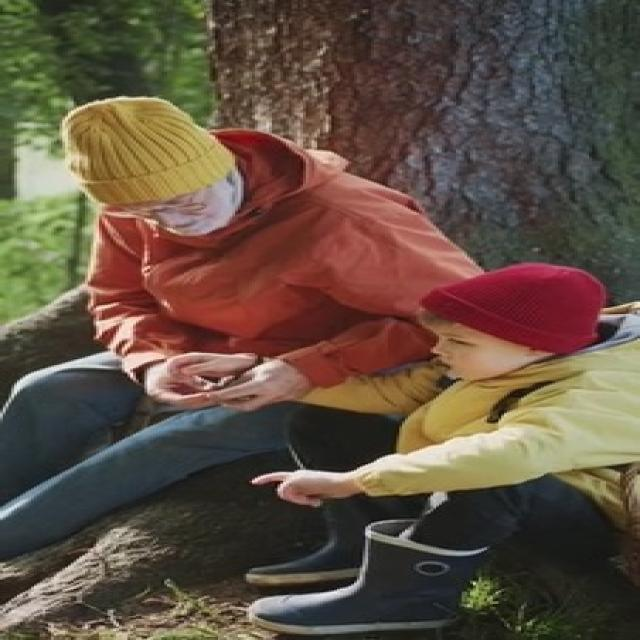Jacket_Wearer: (61, 194, 474, 388)
Person: (30, 96, 485, 464)
